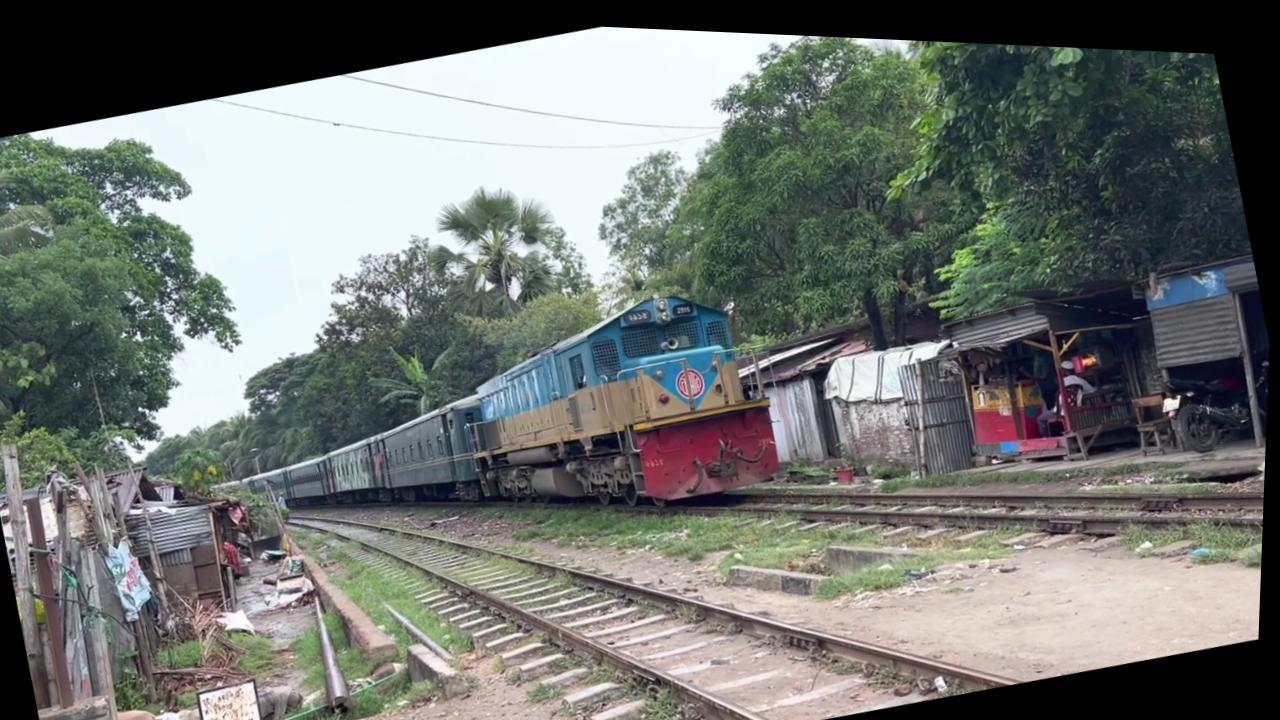Curb: (1155, 339, 1271, 450)
Motorcycle: (275, 347, 1035, 720), (647, 348, 1271, 654)
Pothole: (198, 673, 273, 720)
Potted-plant: (185, 250, 797, 604)
Railroad-crossing: (632, 22, 1010, 386), (410, 162, 576, 331)
